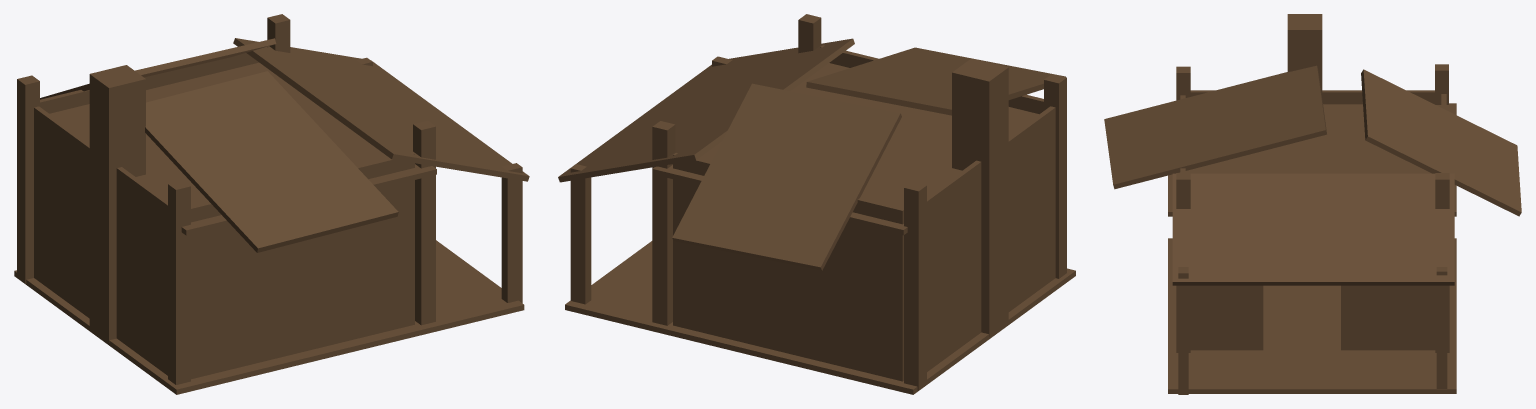
Rendered from ShackLOD.fbx.
3 views of the same model, side by side, from view 1: azimuth 30°, elevation 25°; view 2: azimuth 150°, elevation 25°; view 3: azimuth 270°, elevation 25° (orthographic). The views are drawn at different scales.
Parts seen in each view (by area): view 1: pCube33; view 2: pCube33; view 3: pCube33.
Part boxes in pixels (box(x1,y1,x2,y2)): pCube33: box(14, 14, 529, 394); pCube33: box(558, 14, 1075, 394); pCube33: box(1104, 14, 1521, 394).
Bounding box in the file's own units: 588 × 406 × 670.
